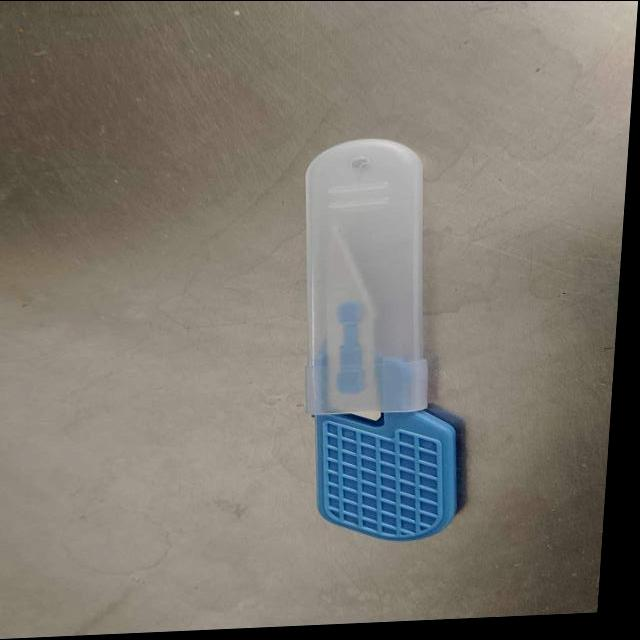Pathological: (313, 407, 459, 541)
Sharps: (301, 136, 459, 541)
